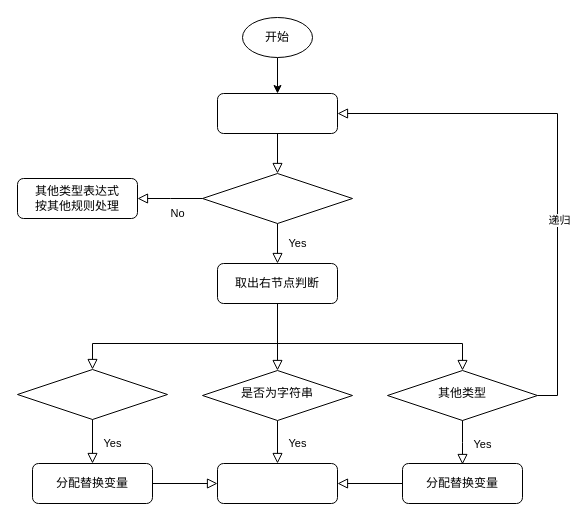
Image size: 587x521. Some labels were removed from this diagram. The shapes that lost their labels are listed below. From the top down, each one's centre as x and y in pixels, then its label:
At (277,113): "根节点".
At (277,198): "是否为二元表达式".
At (92,394): "是否为变量".
At (277,483): "入栈".
